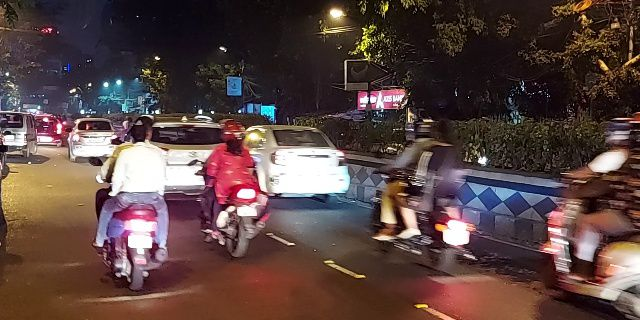Car: (69, 119, 111, 157)
Motorbike: (363, 114, 472, 273), (94, 119, 166, 295), (194, 117, 270, 256)
